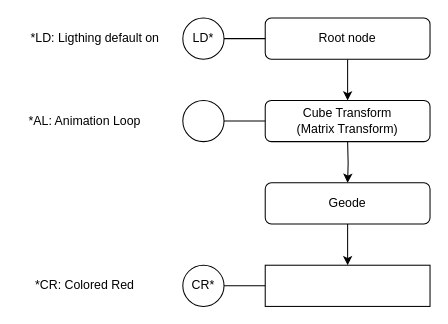
Some shapes in this 448 by 324 pixel diagram are drawn without their labels. Here are the shapes that lost their labels. From the top down, the centre of each, then its label:
At (203,120): "AL*".
At (347,285): "Shape Drawable (Box)".
